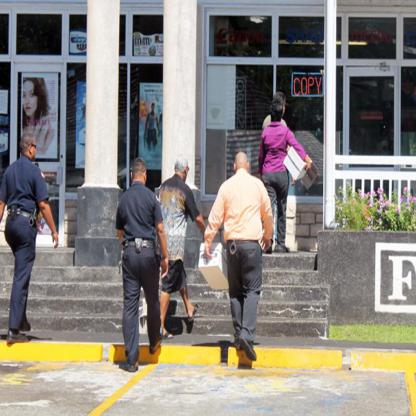face: (23, 82, 38, 117), (30, 139, 37, 159), (280, 98, 286, 117), (184, 166, 189, 181), (153, 106, 155, 112)
